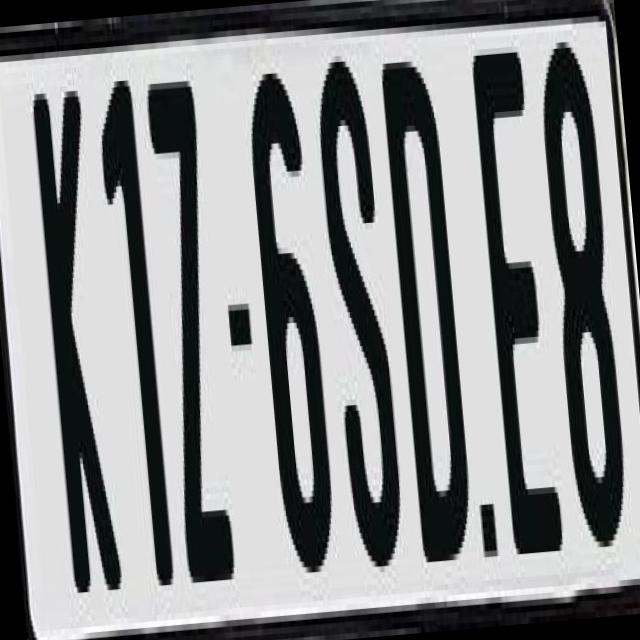1: (90, 74, 174, 599)
6: (242, 53, 348, 592)
8: (532, 34, 635, 578)
D: (378, 41, 478, 574)
E: (466, 34, 564, 549)
K: (30, 71, 130, 604)
S: (309, 48, 406, 562)
Z: (142, 68, 240, 578)
